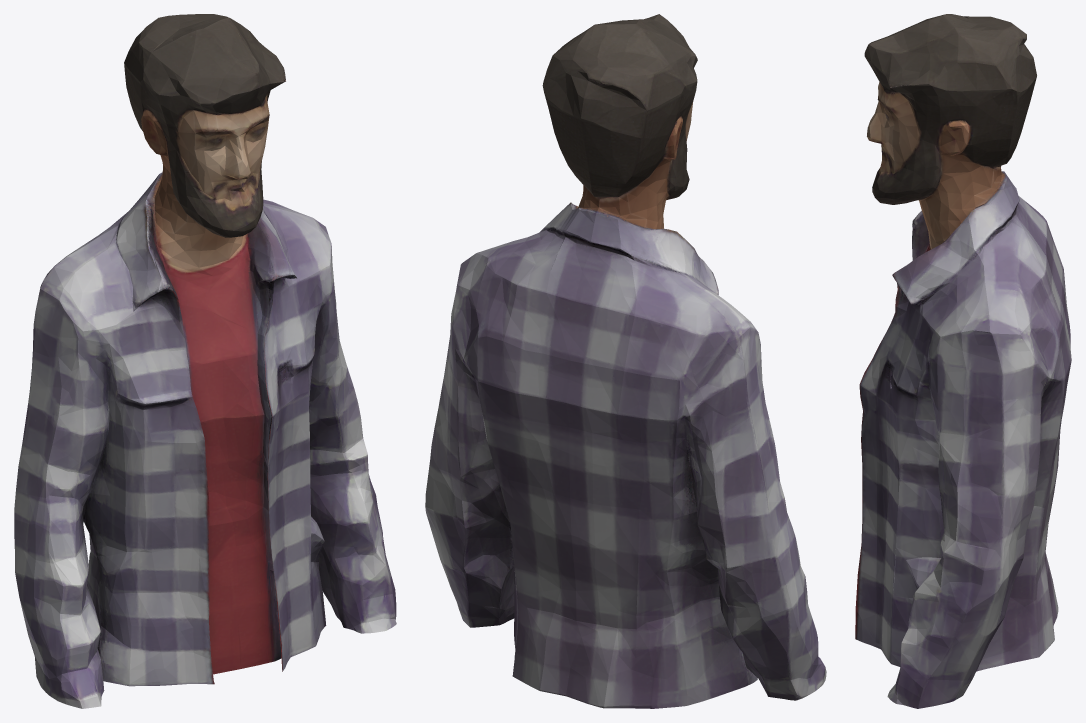
3 renders of one model, left to right at view 1: azimuth 30°, elevation 25°; view 2: azimuth 150°, elevation 25°; view 3: azimuth 270°, elevation 25°, orthographic. The views are drawn at different scales.
Visible parts, largest first — view 1: geometry_0; view 2: geometry_0; view 3: geometry_0.
Part boxes in pixels (x1,y1,x2,y2): geometry_0: (14,14,396,708); geometry_0: (425,14,826,708); geometry_0: (855,14,1071,708).
Bounding box in the file's own units: 0.497 × 0.8284 × 0.2674.
1 material, 1 textured.
